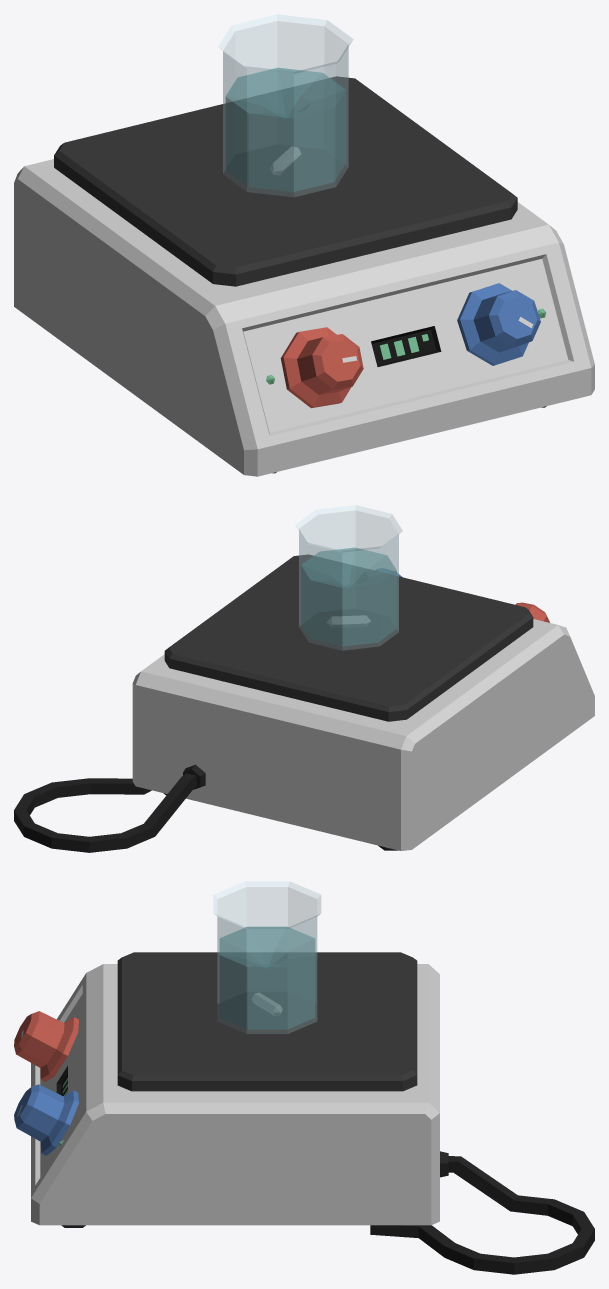
The model's file is magnetic-stirrer-hotplate-e88575.glb.
3 renders of one model, top to bottom at view 1: azimuth 30°, elevation 25°; view 2: azimuth 150°, elevation 25°; view 3: azimuth 270°, elevation 25°, orthographic. The views are drawn at different scales.
Parts seen in each view (by area): view 1: magnetic-stirrer-hotplate, beaker, dial-heat, dial-stir; view 2: magnetic-stirrer-hotplate, beaker, stir-bar; view 3: magnetic-stirrer-hotplate, beaker, dial-heat, dial-stir.
Part boxes in pixels (<box>): magnetic-stirrer-hotplate: <box>14,76,594,476</box>; beaker: <box>218,14,353,196</box>; dial-heat: <box>280,327,363,408</box>; dial-stir: <box>457,283,540,365</box>; magnetic-stirrer-hotplate: <box>14,554,594,852</box>; beaker: <box>295,505,402,650</box>; stir-bar: <box>327,615,370,627</box>; magnetic-stirrer-hotplate: <box>31,952,594,1274</box>; beaker: <box>213,881,320,1033</box>; dial-heat: <box>14,1011,78,1081</box>; dial-stir: <box>14,1084,78,1155</box>.
Size of the model in its own units: 0.3027 by 0.202 by 0.4073.
